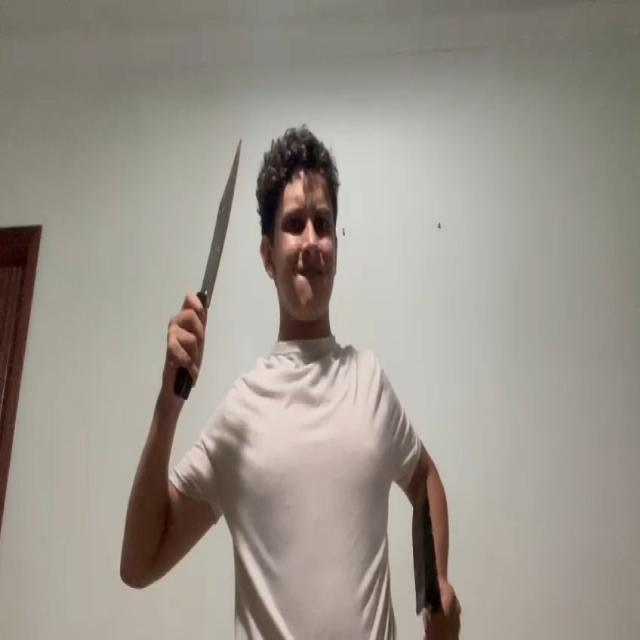knife: (198, 136, 245, 310)
